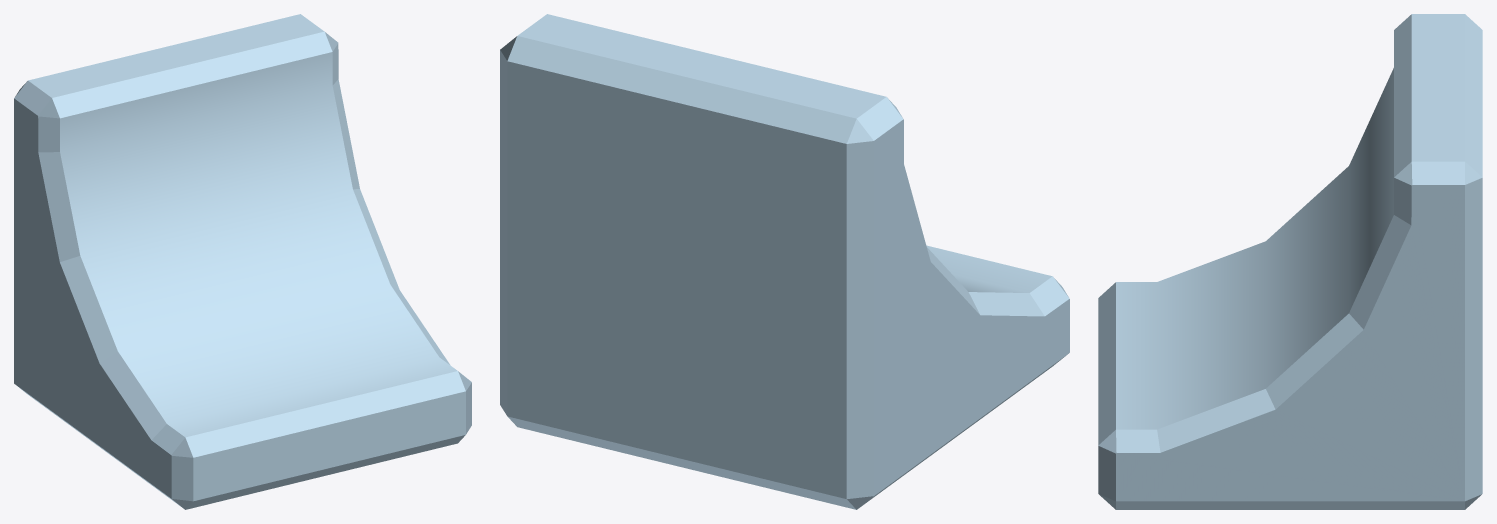
Rendered from R4B_CoveEdge.fbx.
3 views of the same model, side by side, from view 1: azimuth 30°, elevation 25°; view 2: azimuth 150°, elevation 25°; view 3: azimuth 270°, elevation 25° (orthographic). The views are drawn at different scales.
Parts seen in each view (by area): view 1: R4B_CoveEdge; view 2: R4B_CoveEdge; view 3: R4B_CoveEdge.
Boxes of the visible parts, x1,y1,x2,y2 form: R4B_CoveEdge: [14, 14, 471, 509]; R4B_CoveEdge: [500, 14, 1069, 509]; R4B_CoveEdge: [1098, 14, 1482, 509].
Size of the model in its own units: 0.52 by 0.52 by 0.52.
